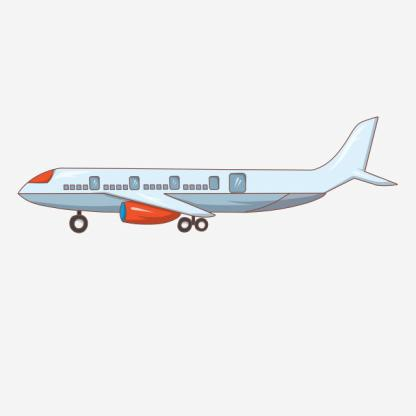CIV_Plane: (12, 110, 403, 236)
